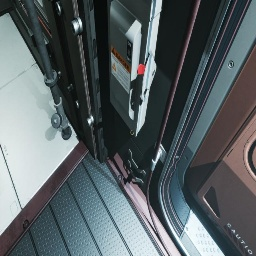SafetySwitchPanel ,: (107, 0, 164, 137)
